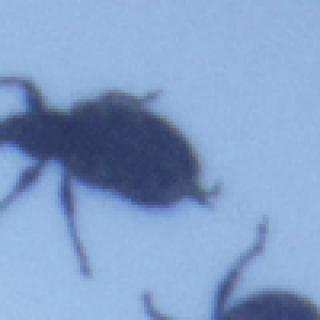bvw: (0, 74, 219, 277)
